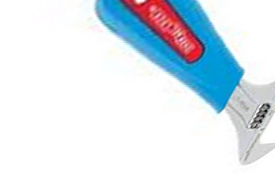Wrench: (93, 1, 275, 168)
